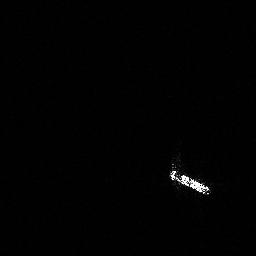ship: (169, 165, 212, 198)
